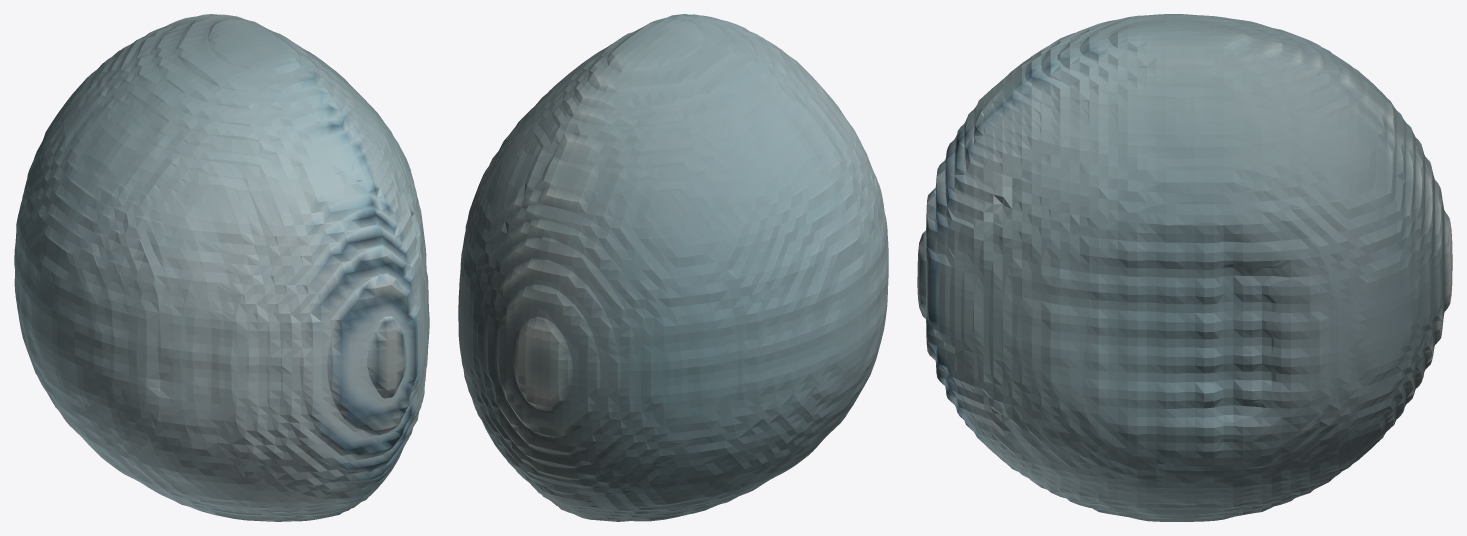
The picture shows the model from 3 angles, left to right: view 1: azimuth 30°, elevation 25°; view 2: azimuth 150°, elevation 25°; view 3: azimuth 270°, elevation 25°; orthographic projection. The views are drawn at different scales.
Parts seen in each view (by area): view 1: world; view 2: world; view 3: world.
Part boxes in pixels (x1=…): world: x1=14, y1=14, x2=429, y2=521; world: x1=458, y1=14, x2=888, y2=521; world: x1=917, y1=14, x2=1452, y2=521.
Bounding box in the file's own units: 0.5756 × 0.7489 × 0.7635.
